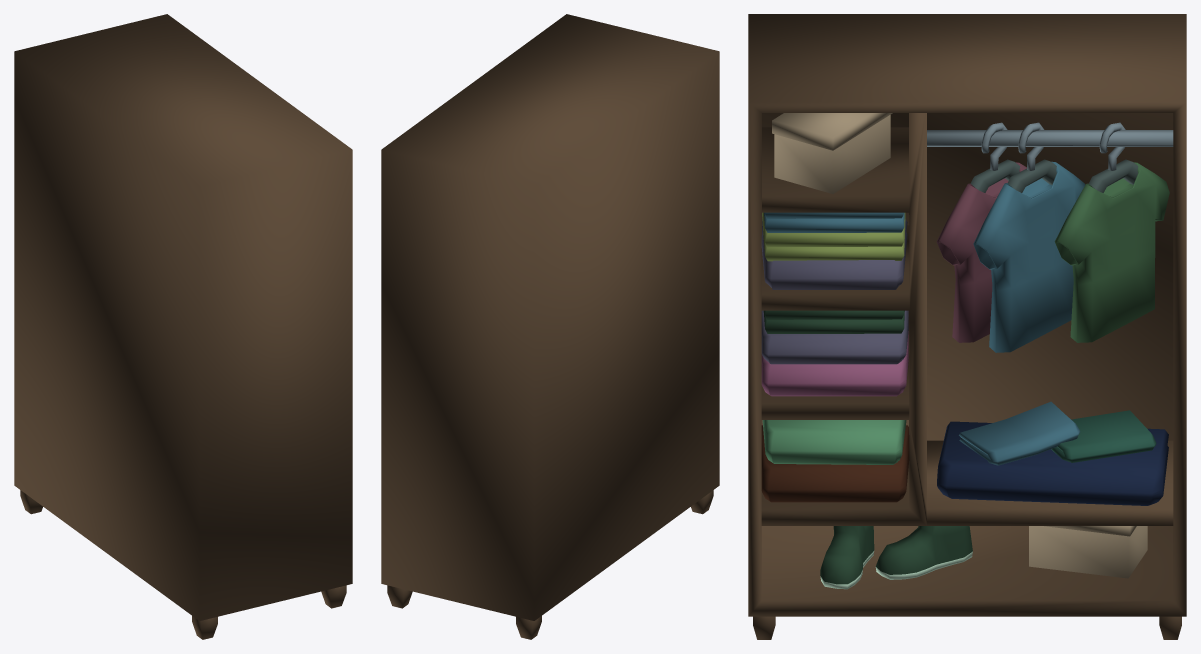
Rendered from Wardrobe_Bedroom_V1.fbx.
3 views of the same model, side by side, from view 1: azimuth 30°, elevation 25°; view 2: azimuth 150°, elevation 25°; view 3: azimuth 270°, elevation 25° (orthographic). The views are drawn at different scales.
Parts seen in each view (by area): view 1: Cube, Cube.005; view 2: Cube, Cube.005; view 3: Cube, Cube.008, Cube.017, Cube.020, Cube.021, Cube.011, Cube.002, Cube.001, Cube.016, Cube.007, Cube.003, Cube.004 (+13 smaller).
Boxes of the visible parts, x1,y1,x2,y2 form: Cube: (14, 14, 352, 620); Cube.005: (20, 490, 346, 639); Cube: (381, 14, 719, 620); Cube.005: (387, 490, 713, 639); Cube: (748, 14, 1186, 616); Cube.008: (761, 113, 1173, 525); Cube.017: (1054, 162, 1169, 342); Cube.020: (973, 161, 1085, 352); Cube.021: (937, 421, 1168, 505); Cube.011: (772, 113, 892, 193); Cube.002: (762, 420, 906, 464); Cube.001: (761, 425, 909, 502); Cube.016: (936, 162, 1026, 342); Cube.007: (1029, 526, 1147, 578); Cube.003: (761, 331, 908, 396); Cube.004: (761, 310, 908, 364).
Size of the model in its own units: 95.34 by 273 by 200.
